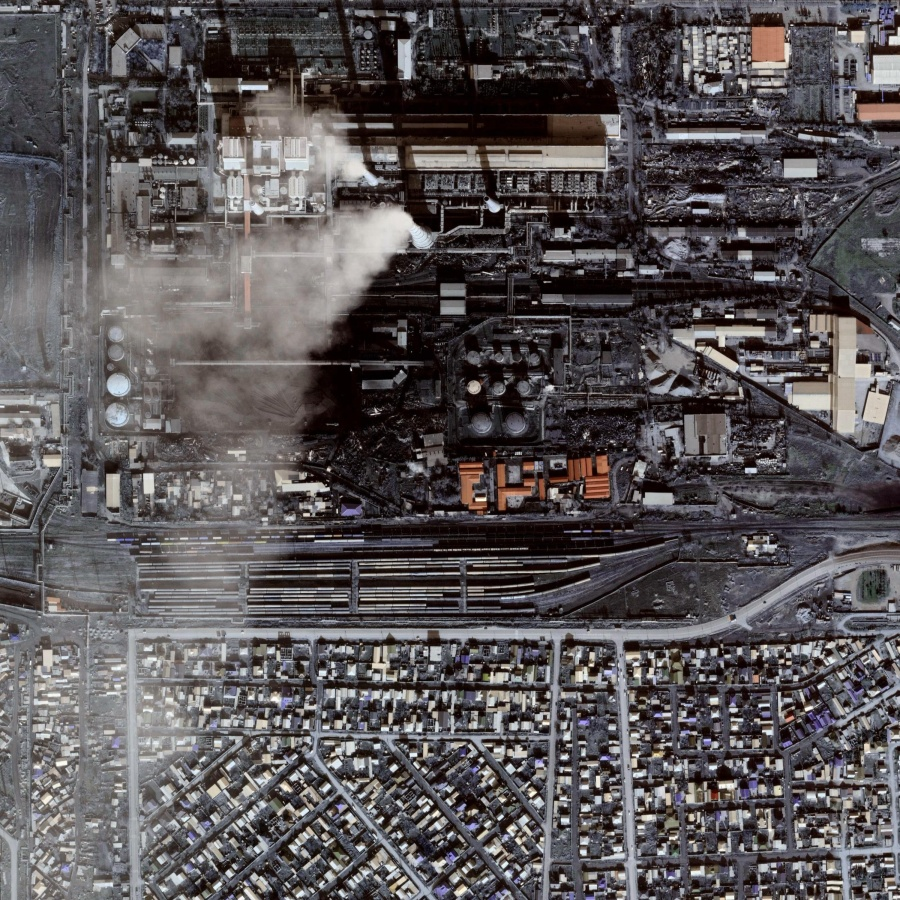PowerPlant: (110, 135, 614, 449)
